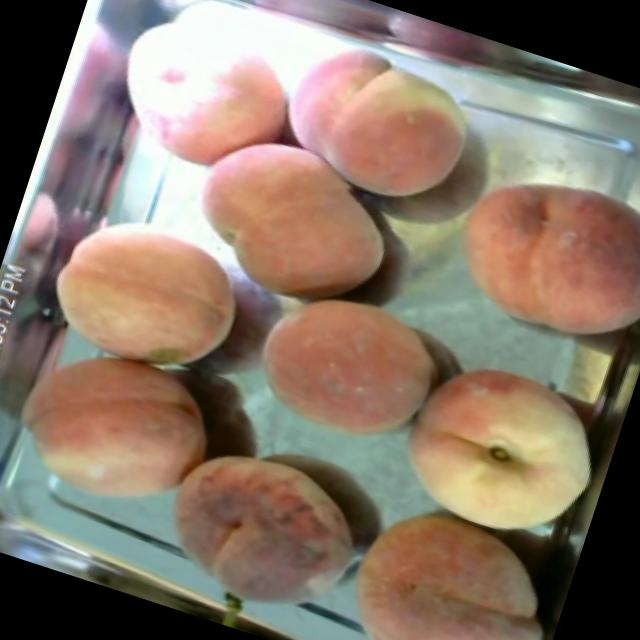Fruit: (132, 411, 405, 640), (166, 105, 427, 338), (373, 327, 632, 559), (230, 258, 474, 480), (258, 17, 501, 237), (0, 323, 239, 538), (27, 185, 270, 392), (428, 138, 640, 372), (308, 478, 582, 640), (152, 25, 318, 206)
